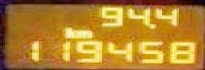-: (147, 21, 156, 27)
1: (27, 38, 38, 61), (59, 38, 70, 61)
4: (103, 40, 132, 62), (152, 6, 178, 25), (123, 6, 149, 25)
5: (136, 39, 163, 63)
8: (165, 39, 194, 64)
9: (72, 39, 101, 63), (96, 5, 123, 26)
X: (60, 25, 74, 37), (74, 27, 92, 36)
